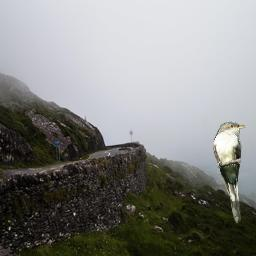Cuckoo: (213, 121, 246, 224)
